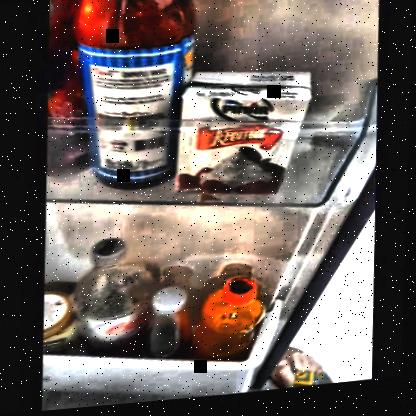heavy_cream: (177, 72, 299, 203)
